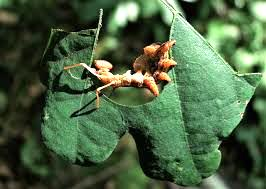Lobster Moth: (77, 36, 180, 110)
